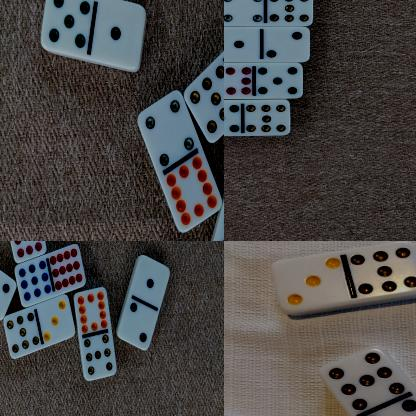pip-1: (91, 0, 146, 70), (136, 256, 171, 305), (224, 26, 262, 63)
pip-10: (167, 155, 223, 233), (76, 286, 109, 332)
pip-12: (50, 243, 87, 292)
pip-2: (118, 299, 154, 351), (262, 26, 310, 61), (0, 261, 17, 319)
pip-3: (273, 253, 349, 313), (40, 293, 76, 342)
pip-4: (139, 90, 194, 166), (224, 0, 267, 26)
pip-5: (40, 0, 91, 56), (255, 63, 304, 99), (224, 98, 242, 137)
pip-7: (322, 348, 405, 410), (349, 242, 416, 297), (183, 63, 224, 142), (5, 310, 40, 360), (243, 99, 291, 135), (83, 332, 117, 380), (266, 0, 314, 25)
pip-8: (224, 63, 255, 99), (9, 241, 47, 263)
pip-9: (16, 256, 52, 307)
